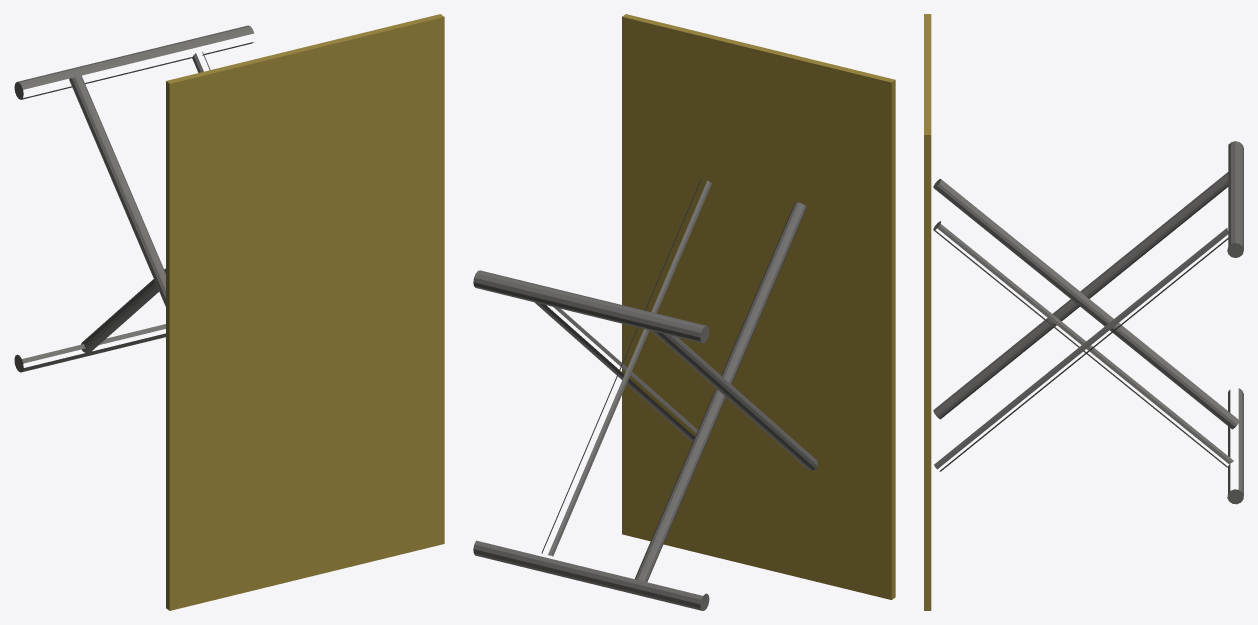
The model's file is _nissen-1100-desk-bodyset2.glb.
3 renders of one model, left to right at view 1: azimuth 30°, elevation 25°; view 2: azimuth 150°, elevation 25°; view 3: azimuth 270°, elevation 25°, orthographic. The views are drawn at different scales.
Bounding box in the file's own units: 0.6 × 1.1 × 0.67.
